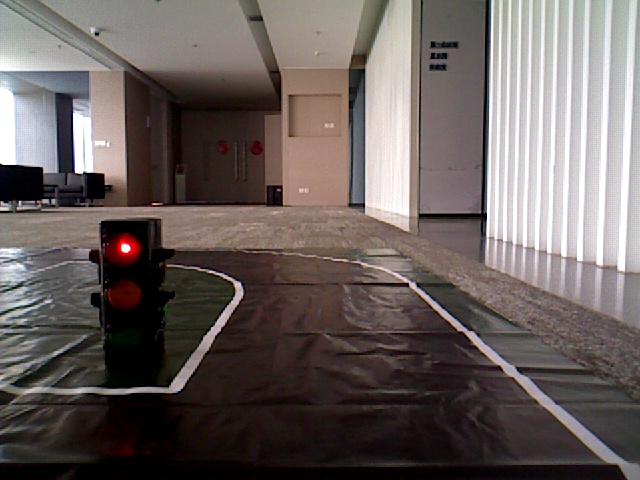red: (99, 221, 155, 369)
